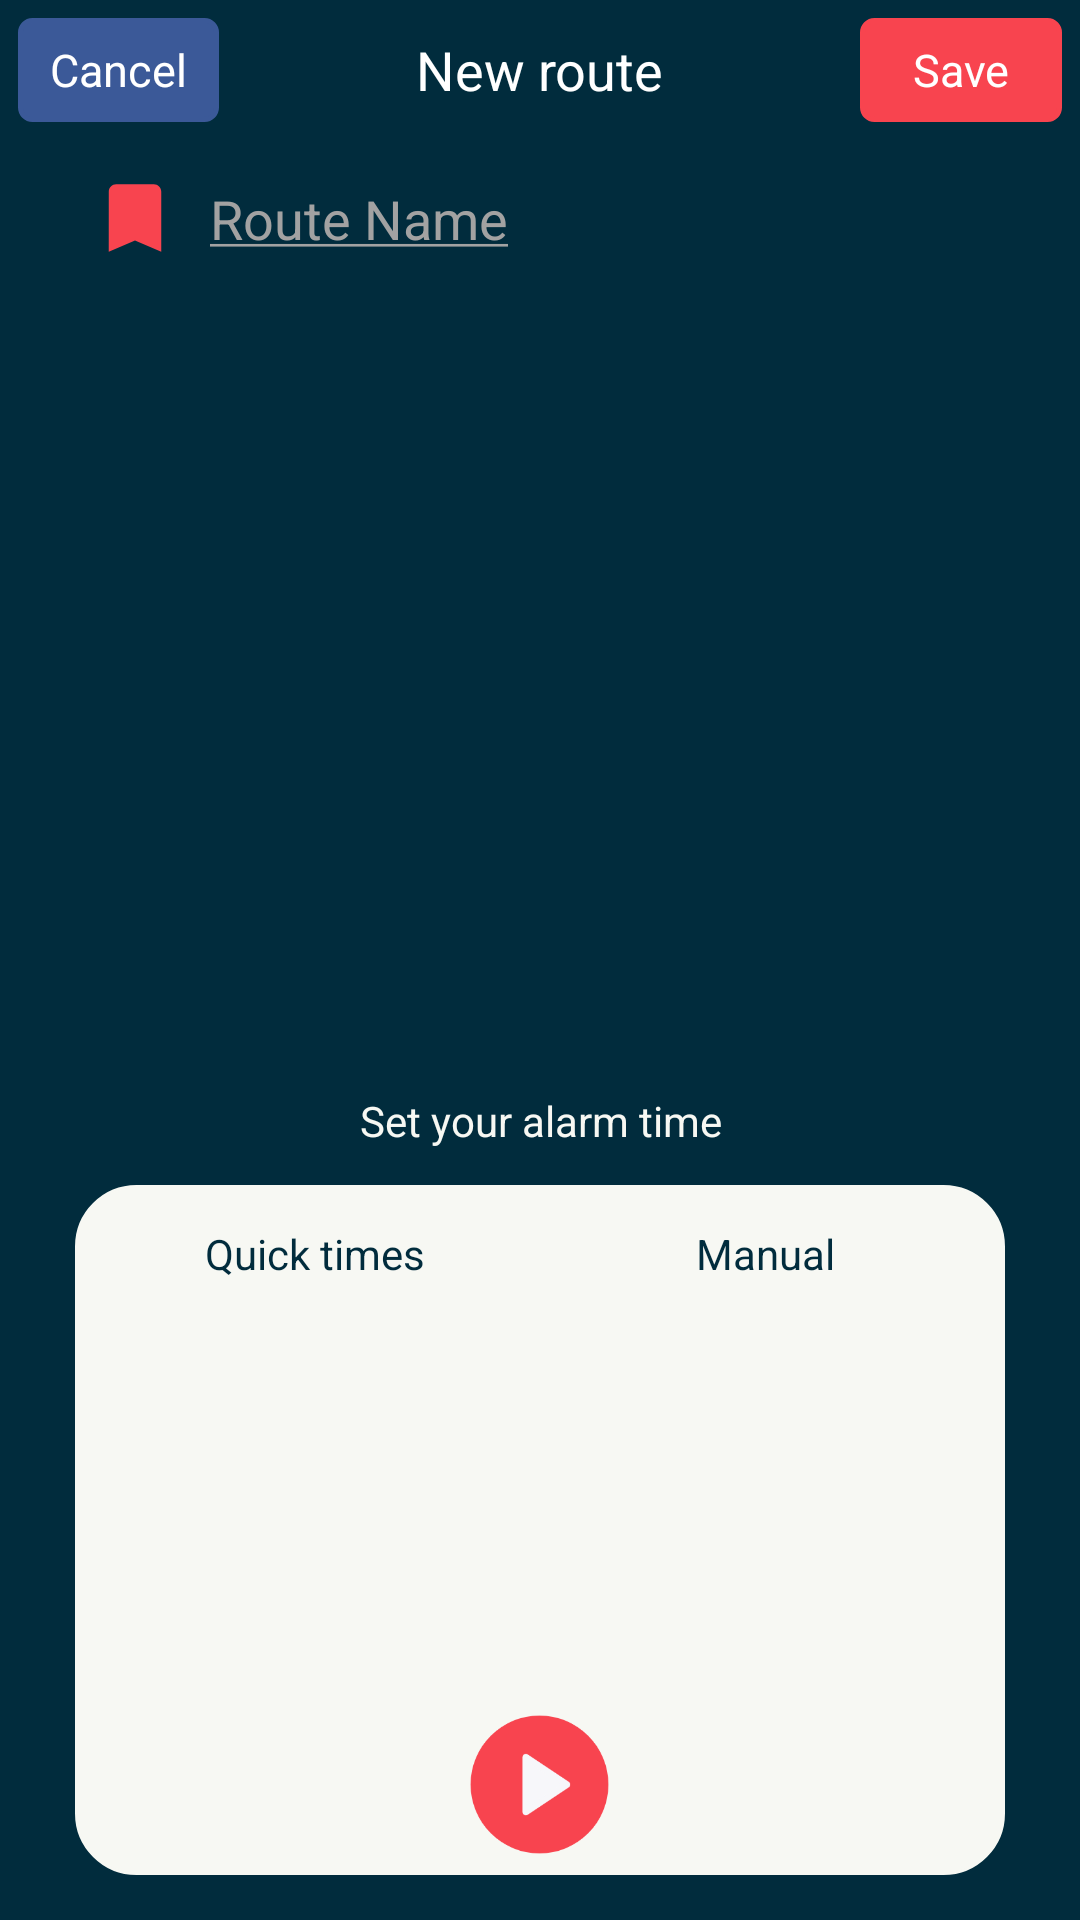

Screen size 1080×1920. Icon name, then its center in pixels as point (x, y):
play: point (539, 1784)
